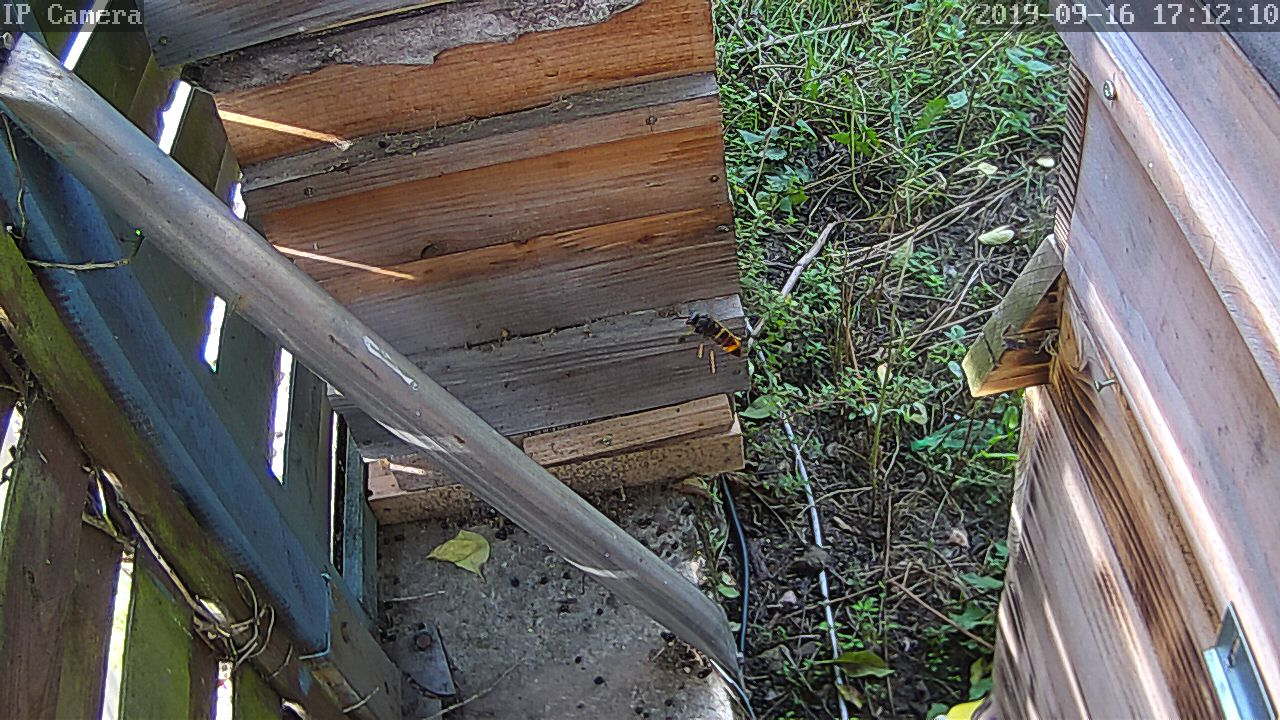hornet: (675, 304, 748, 359)
